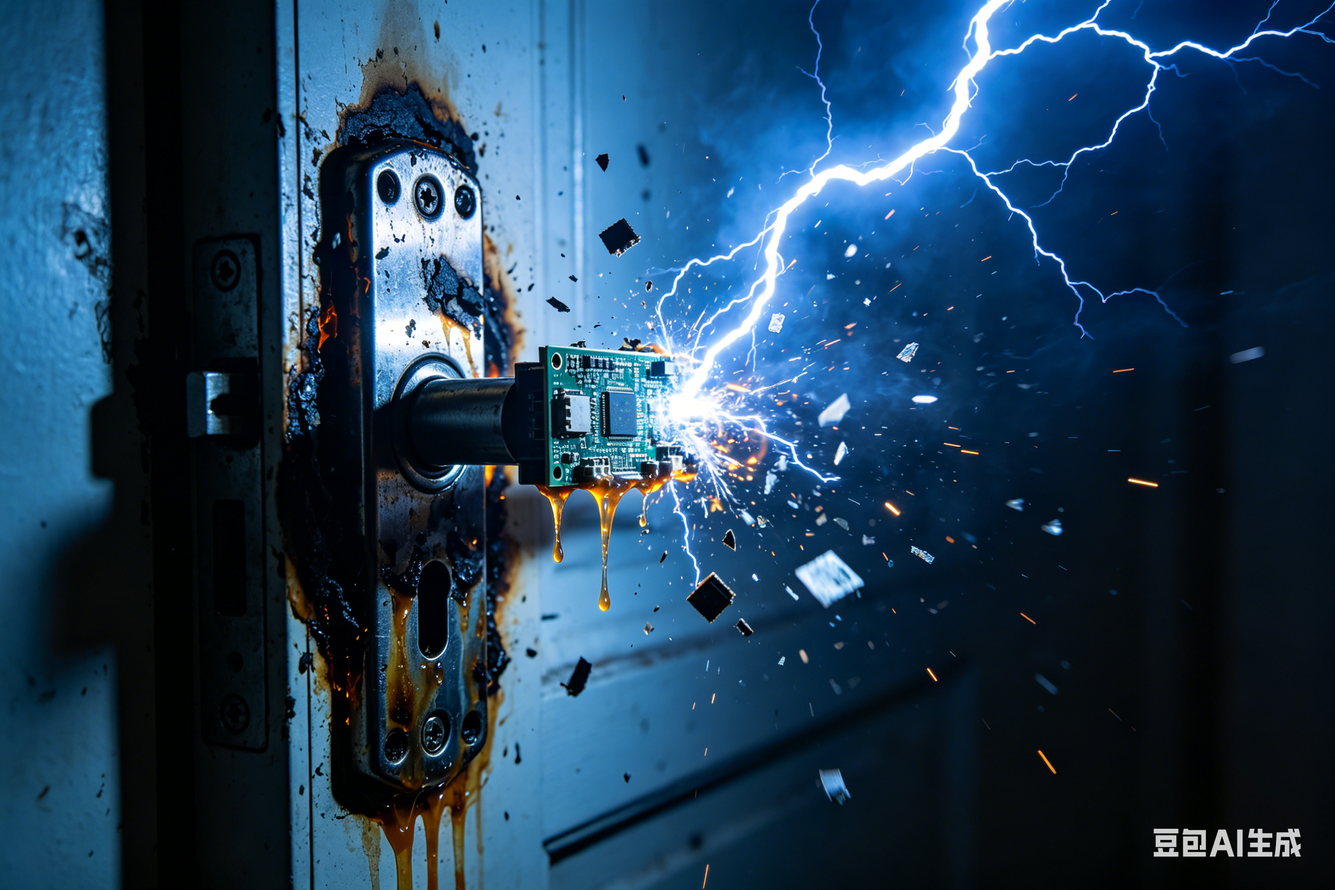BadLock: (348, 138, 504, 797)
